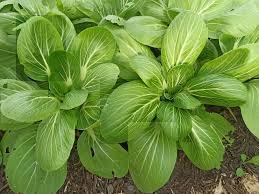Healthy-Pechay: (1, 2, 256, 193), (35, 109, 76, 174), (71, 26, 117, 75), (0, 86, 59, 124), (211, 0, 259, 40), (41, 10, 77, 52), (123, 14, 166, 47), (0, 125, 37, 162), (75, 97, 104, 131), (14, 0, 52, 17), (140, 1, 170, 21), (0, 11, 22, 37), (33, 31, 50, 64), (0, 60, 23, 83), (72, 3, 98, 20), (98, 16, 121, 33), (92, 176, 113, 194), (202, 38, 218, 61), (174, 8, 200, 22), (78, 64, 88, 83), (35, 78, 49, 90), (0, 3, 15, 13), (62, 76, 73, 89), (0, 181, 10, 193), (124, 1, 136, 10), (5, 146, 10, 154), (2, 83, 8, 89)
